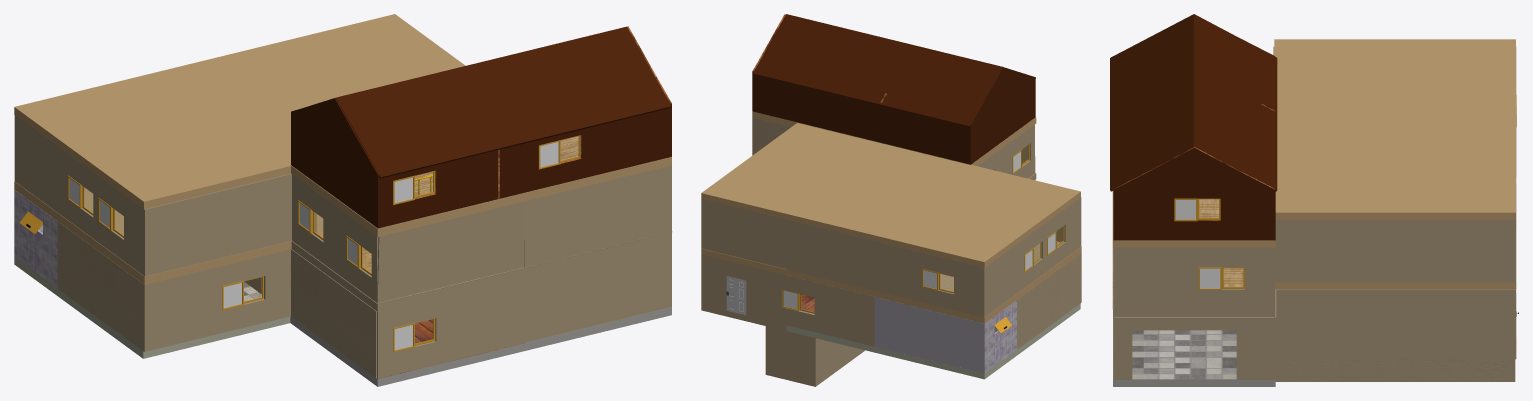
The model's file is Cenario_Casa.fbx.
3 renders of one model, left to right at view 1: azimuth 30°, elevation 25°; view 2: azimuth 150°, elevation 25°; view 3: azimuth 270°, elevation 25°, orthographic. The views are drawn at different scales.
Parts seen in each view (by area): view 1: Telhado.002, Telhado.000, Parede_Casa.029, Parede_Casa.033, Parede_Casa.010, Parede_Casa.024, Parede_Casa.022, Parede_Casa.009, Parede_Casa.006, Parede_Casa.016, Parede_Casa.027, Parede_Casa.003 (+13 smaller); view 2: Telhado.002, Telhado.001, Parede_Casa.013, Parede_Casa.028, Parede_Casa, Parede_Casa.031, Parede_Casa.014, Parede_Casa.016, Parede_Casa.027, Parede_Casa.003, Parede_Casa.035, Piso.005 (+11 smaller); view 3: Telhado.002, Parede_Casa.018, Parede_Casa.004, Telhado.000, Telhado.001, Parede_Casa.030, Parede_Casa.025, Piso.001, Parede_Casa.034, Parede_Casa.011, Piso.003, Piso.002 (+4 smaller).
Part boxes in pixels (<box>): Telhado.002: <box>14,14,465,209</box>; Telhado.000: <box>336,27,671,178</box>; Parede_Casa.029: <box>380,108,669,227</box>; Parede_Casa.033: <box>144,173,291,276</box>; Parede_Casa.010: <box>524,240,671,342</box>; Parede_Casa.024: <box>524,165,671,267</box>; Parede_Casa.022: <box>377,201,526,302</box>; Parede_Casa.009: <box>377,276,525,378</box>; Parede_Casa.006: <box>146,249,290,351</box>; Parede_Casa.016: <box>15,116,143,275</box>; Parede_Casa.027: <box>291,98,379,228</box>; Parede_Casa.003: <box>57,221,146,351</box>; Telhado.002: <box>701,123,1080,267</box>; Telhado.001: <box>753,14,1002,126</box>; Parede_Casa.013: <box>701,199,872,290</box>; Parede_Casa.028: <box>753,74,970,164</box>; Parede_Casa: <box>701,254,874,346</box>; Parede_Casa.031: <box>874,297,984,373</box>; Parede_Casa.014: <box>874,241,984,317</box>; Parede_Casa.016: <box>985,198,1080,316</box>; Parede_Casa.027: <box>969,67,1035,164</box>; Parede_Casa.003: <box>1017,253,1081,349</box>; Parede_Casa.035: <box>765,326,816,386</box>; Piso.005: <box>786,241,1081,323</box>; Telhado.002: <box>1274,39,1515,219</box>; Parede_Casa.018: <box>1275,220,1513,282</box>; Parede_Casa.004: <box>1275,289,1513,351</box>; Telhado.000: <box>1110,14,1193,191</box>; Telhado.001: <box>1193,14,1277,191</box>; Parede_Casa.030: <box>1113,147,1275,240</box>; Parede_Casa.025: <box>1115,247,1273,309</box>; Piso.001: <box>1113,317,1275,386</box>; Parede_Casa.034: <box>1275,359,1512,381</box>; Parede_Casa.011: <box>1115,317,1273,379</box>; Piso.003: <box>1275,230,1516,289</box>; Piso.002: <box>1276,336,1516,359</box>.
Size of the model in its own units: 2110 by 1450 by 1778.
